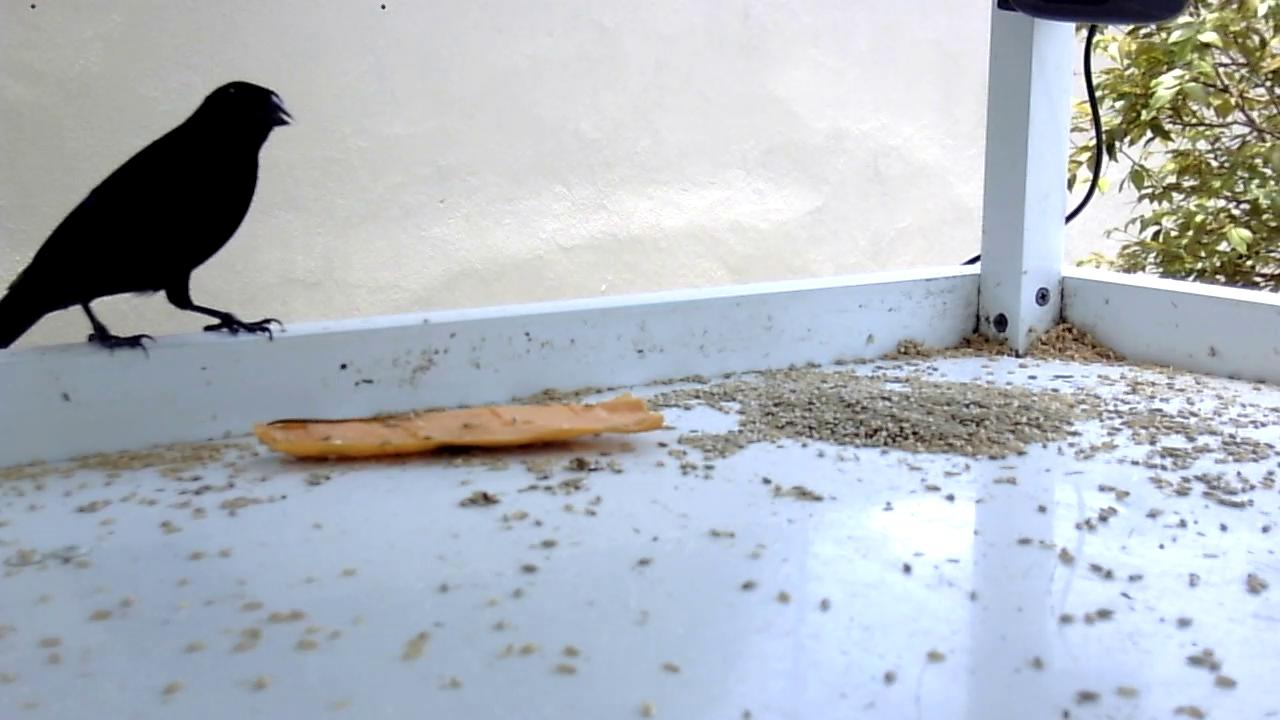chupim: (1, 78, 302, 368)
